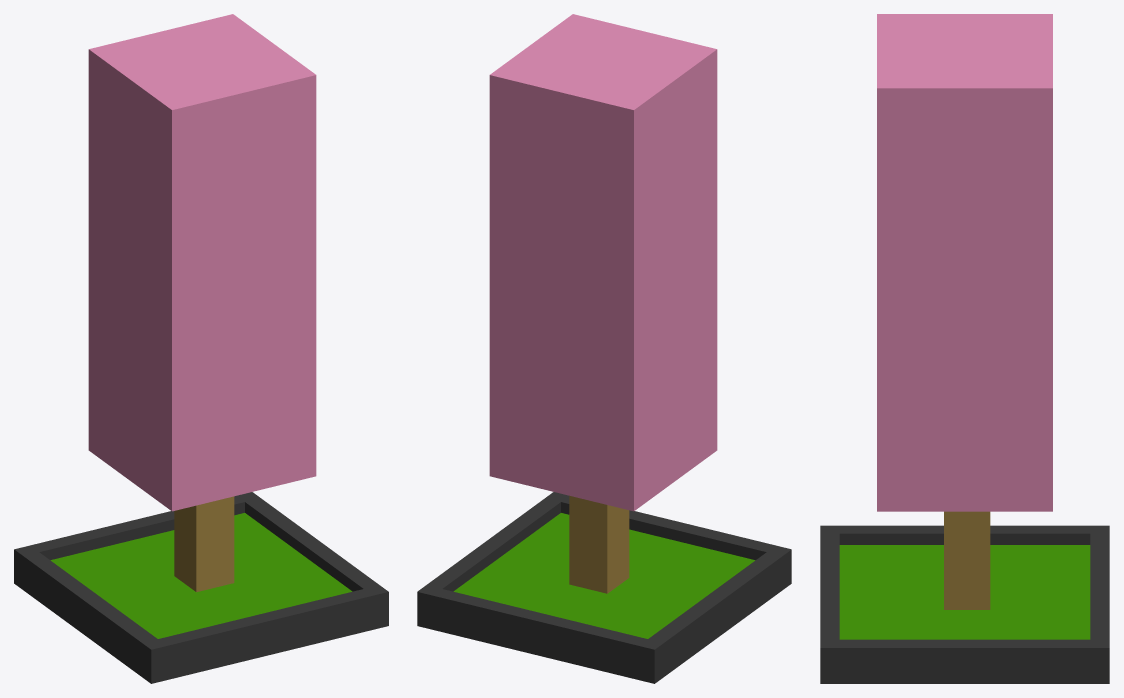
File: tree.fbx
3 views of the same model, side by side, from view 1: azimuth 30°, elevation 25°; view 2: azimuth 150°, elevation 25°; view 3: azimuth 270°, elevation 25° (orthographic). The views are drawn at different scales.
Parts seen in each view (by area): view 1: Cube.026; view 2: Cube.026; view 3: Cube.026.
Boxes of the visible parts, box(x1,y1,x2,y2) form: Cube.026: box(14, 14, 388, 683); Cube.026: box(417, 14, 791, 683); Cube.026: box(820, 14, 1109, 683).
Bounding box in the file's own units: 1 × 2.18 × 1.
